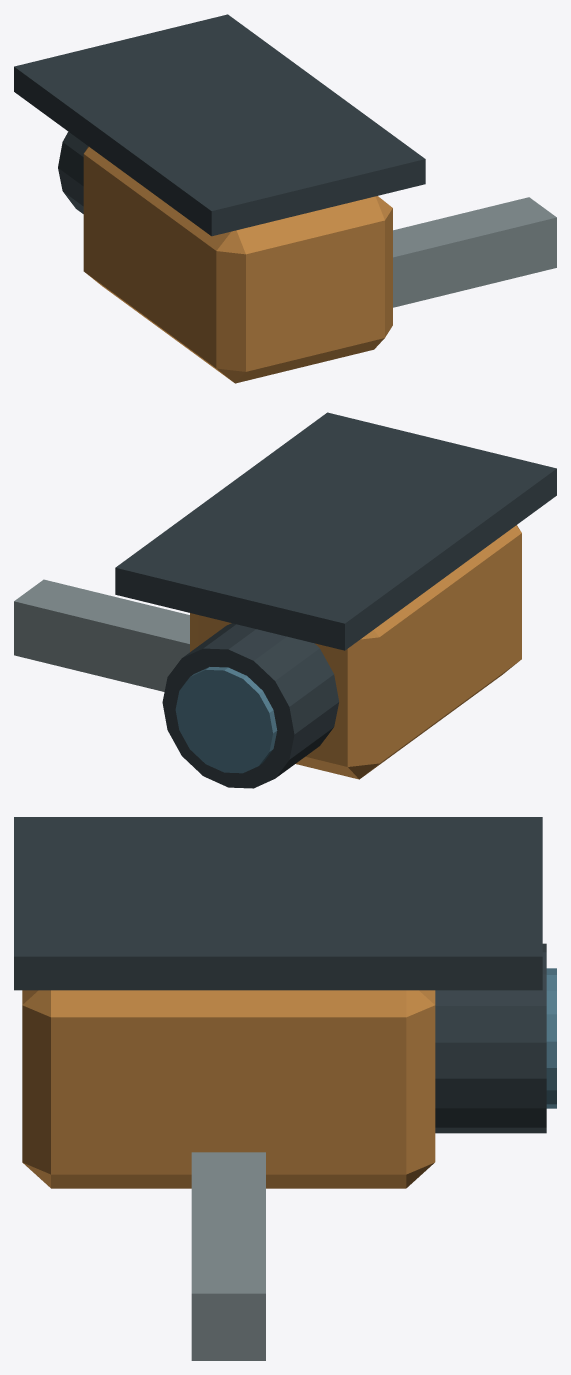
Rendered from DeadRail_P2_Camera.fbx.
3 renders of one model, top to bottom at view 1: azimuth 30°, elevation 25°; view 2: azimuth 150°, elevation 25°; view 3: azimuth 270°, elevation 25°, orthographic. The views are drawn at different scales.
Parts seen in each view (by area): view 1: Camera_Rain_Hood, Camera_Weatherproof_Body, Camera_Arm, Camera_Lens_Barrel; view 2: Camera_Rain_Hood, Camera_Weatherproof_Body, Camera_Arm, Camera_Lens_Barrel, Camera_Optical_Glass; view 3: Camera_Rain_Hood, Camera_Weatherproof_Body, Camera_Lens_Barrel, Camera_Arm, Camera_Optical_Glass.
Boxes of the visible parts, x1,y1,x2,y2 form: Camera_Rain_Hood: (14, 14, 425, 236); Camera_Weatherproof_Body: (83, 146, 392, 383); Camera_Arm: (393, 197, 556, 307); Camera_Lens_Barrel: (58, 132, 88, 213); Camera_Rain_Hood: (115, 412, 556, 650); Camera_Weatherproof_Body: (190, 525, 521, 779); Camera_Arm: (14, 579, 189, 691); Camera_Lens_Barrel: (162, 623, 338, 788); Camera_Optical_Glass: (175, 667, 277, 773); Camera_Rain_Hood: (14, 817, 542, 990); Camera_Weatherproof_Body: (22, 990, 435, 1188); Camera_Lens_Barrel: (435, 943, 546, 1133); Camera_Arm: (191, 1152, 265, 1360); Camera_Optical_Glass: (546, 968, 556, 1108).
Size of the model in its own units: 0.77 by 0.3675 by 0.6575.
